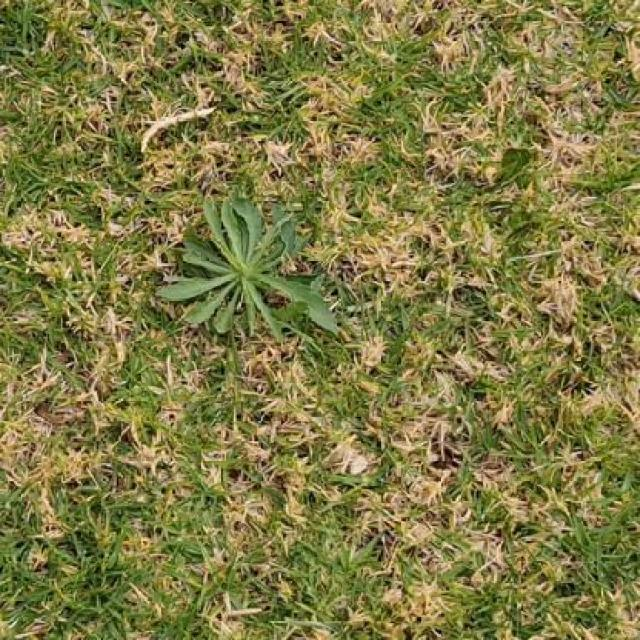weed: (157, 198, 338, 336)
